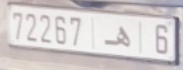2: (25, 11, 39, 41), (40, 14, 52, 45)
6: (153, 23, 170, 56), (54, 15, 66, 46)
7: (69, 17, 84, 45), (12, 10, 23, 42)
h: (103, 21, 131, 49)
